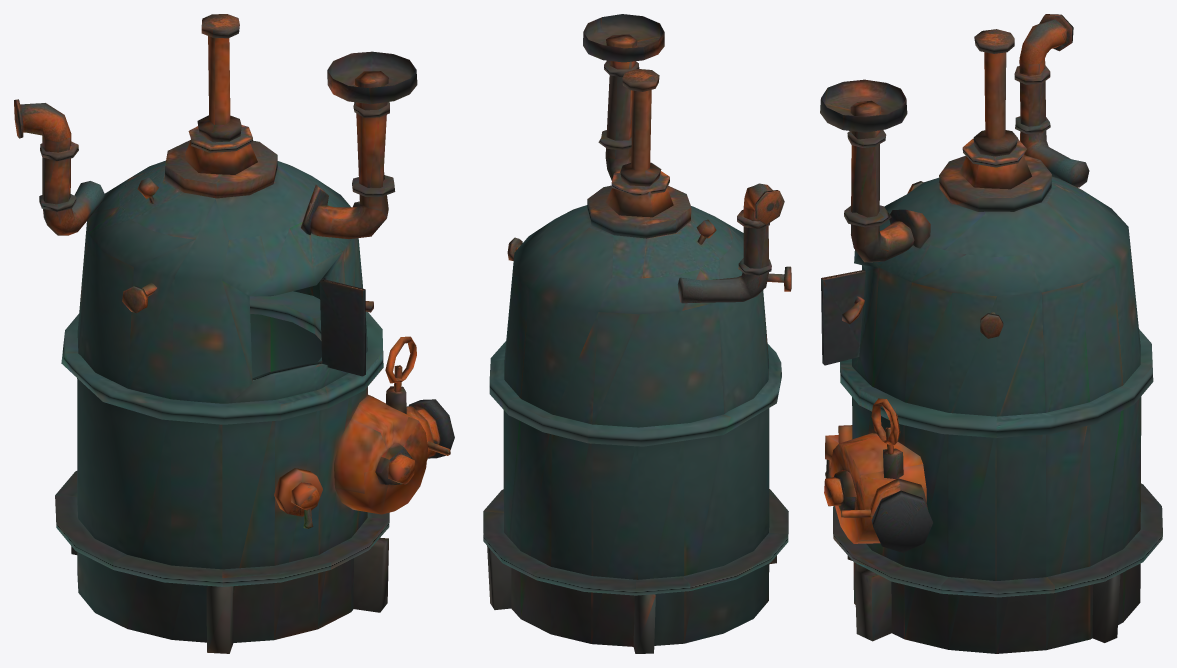
Rendered from haunted-boiler-v3.glb.
3 renders of one model, left to right at view 1: azimuth 30°, elevation 25°; view 2: azimuth 150°, elevation 25°; view 3: azimuth 270°, elevation 25°, orthographic. The views are drawn at different scales.
Visible parts, largest first — view 1: haunted-boiler-v3; view 2: haunted-boiler-v3; view 3: haunted-boiler-v3.
Part boxes in pixels (x1,y1,x2,y2): haunted-boiler-v3: (14, 14, 454, 653); haunted-boiler-v3: (483, 14, 791, 653); haunted-boiler-v3: (820, 14, 1162, 653).
Size of the model in its own units: 0.6567 by 1 by 0.5618.
Materials: 1 (1 with a texture image).
